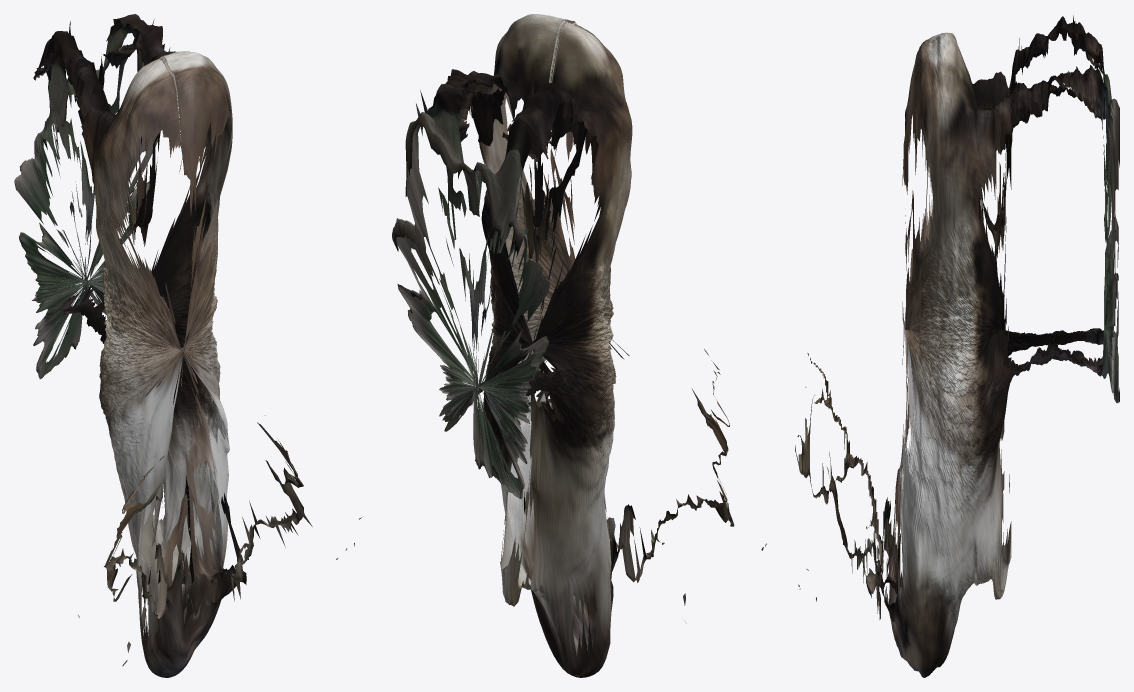
The picture shows the model from 3 angles, left to right: view 1: azimuth 30°, elevation 25°; view 2: azimuth 150°, elevation 25°; view 3: azimuth 270°, elevation 25°; orthographic projection. The views are drawn at different scales.
Visible parts, largest first — view 1: geometry_0; view 2: geometry_0; view 3: geometry_0.
Boxes of the visible parts, x1,y1,x2,y2 form: geometry_0: (14, 14, 361, 677); geometry_0: (392, 14, 766, 677); geometry_0: (795, 15, 1119, 677).
Bounding box in the file's own units: 0.8488 × 1.83 × 0.8337.
1 material, 1 textured.
